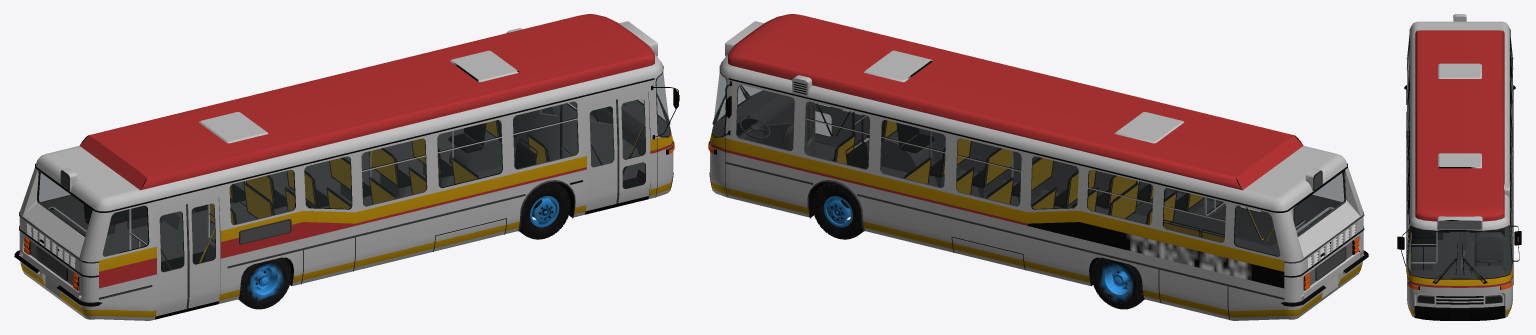
File: busao.glb
3 views of the same model, side by side, from view 1: azimuth 30°, elevation 25°; view 2: azimuth 150°, elevation 25°; view 3: azimuth 270°, elevation 25° (orthographic). The views are drawn at different scales.
Visible parts, largest first — view 1: body, glass_door_fr, glass_door_fl, wheel_fr_tire, wheel_rr_tire, wheel_rr_rim, wheel_fr_rim; view 2: body, glass_door_fl, glass_door_fr, wheel_fl_tire, wheel_rl_tire, wheel_rl_rim, wheel_fl_rim; view 3: body, glass_door_fr, glass_windshield, glass_door_fl.
Part boxes in pixels (x1,y1,x2,y2): body: (14,14,679,320); glass_door_fr: (103,72,670,271); glass_door_fl: (38,172,91,235); wheel_fr_tire: (519,181,570,239); wheel_rr_tire: (238,257,291,309); wheel_rr_rim: (247,261,285,302); wheel_fr_rim: (528,193,562,230); body: (708,14,1368,320); glass_door_fl: (737,85,1344,255); glass_door_fr: (712,73,1343,216); wheel_fl_tire: (812,181,863,239); wheel_rl_tire: (1091,257,1144,309); wheel_rl_rim: (1097,261,1135,302); wheel_fl_rim: (820,193,855,230); body: (1397,14,1521,320); glass_door_fr: (1408,96,1511,302); glass_windshield: (1438,221,1481,229); glass_door_fl: (1486,102,1511,302).
Size of the model in its own units: 12 by 2.97 by 2.92.
6 materials, 5 textured.
